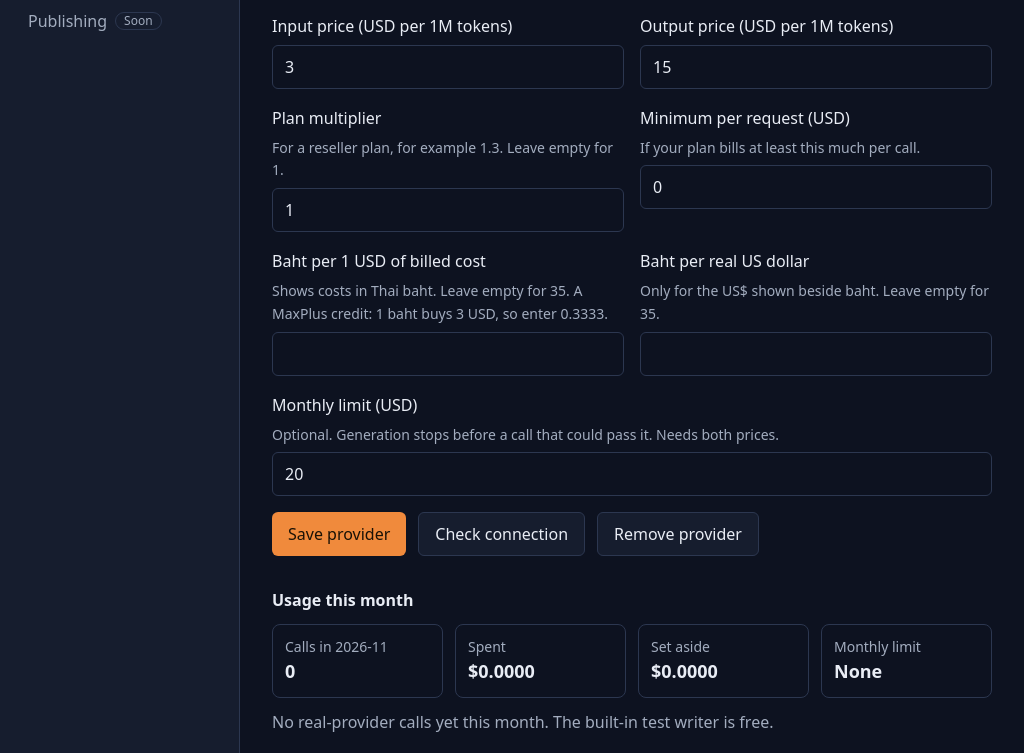
Test: Settings: text provider › checks the connection and shows the plain sentence, success or failure
The image size is (1024, 753).
(page scrolled)
Click the button "Check connection" at (502, 534), box [418, 512, 585, 556]
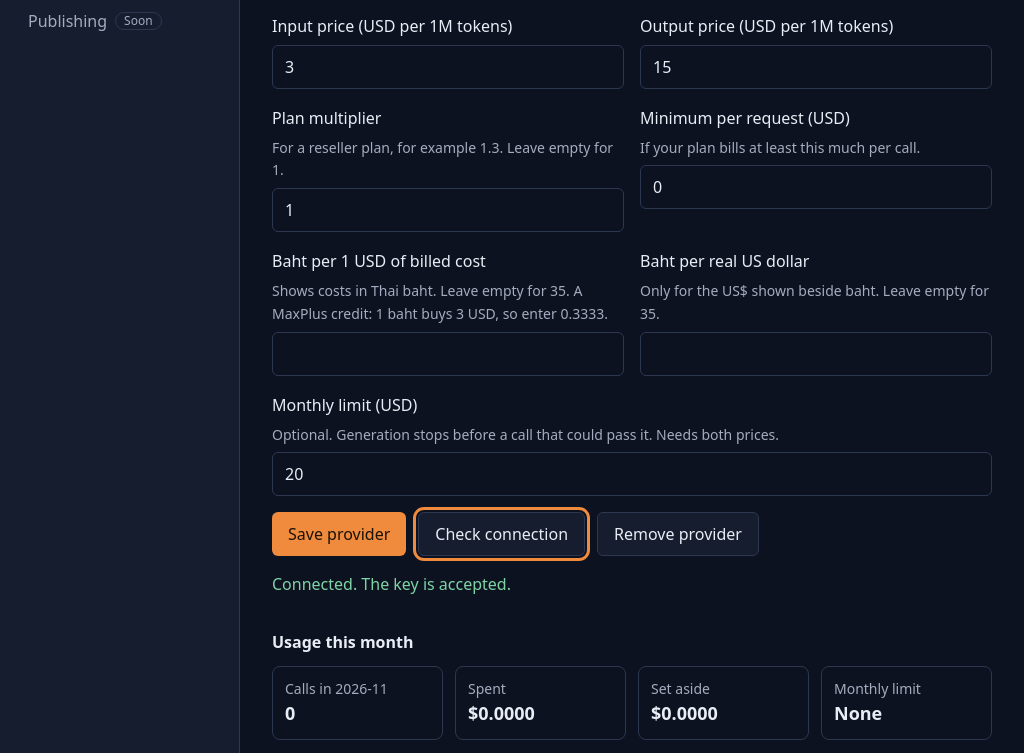
Expected: the text "Connected. The key is accepted." is shown, [272, 573, 511, 595]
Click the button "Check connection" at (502, 534), box [418, 512, 585, 556]
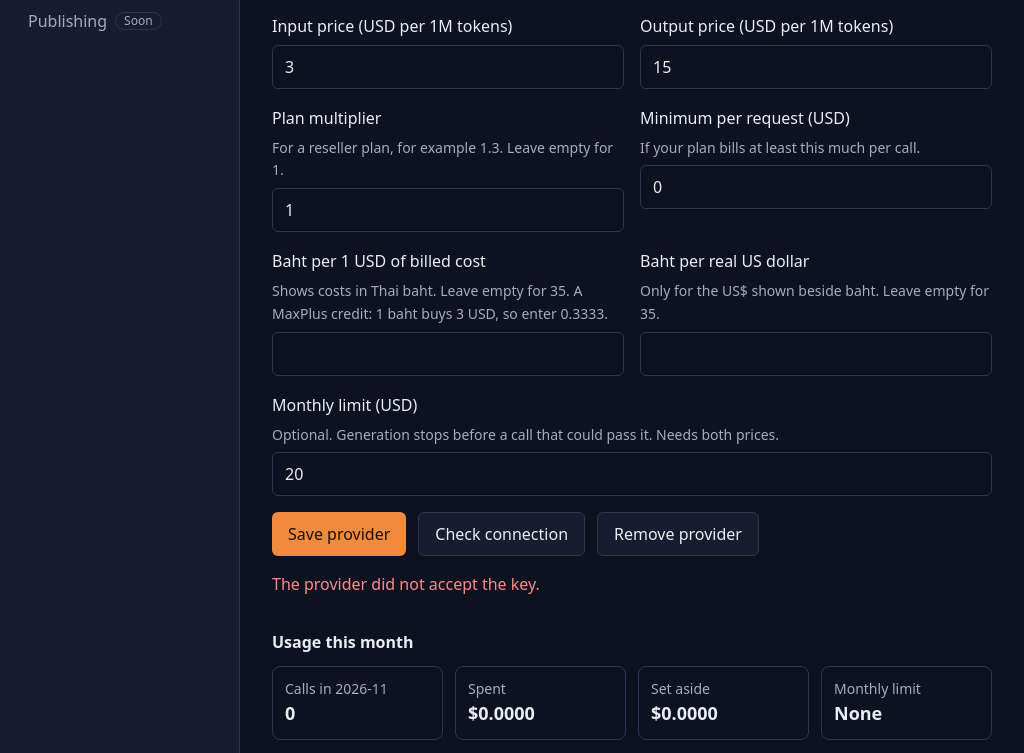
Expected: the message reads "The provider did not accept the key.", [272, 573, 540, 595]
